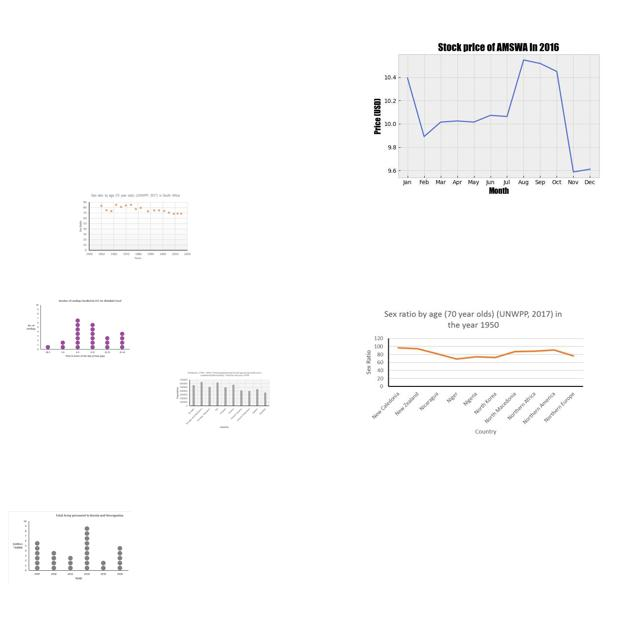Graph: (366, 18, 625, 212), (359, 306, 588, 439), (8, 511, 131, 583), (75, 191, 192, 260), (23, 297, 132, 360), (173, 370, 271, 429)
